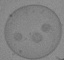small: (13, 32, 23, 41), (42, 23, 51, 32), (33, 33, 42, 42)
